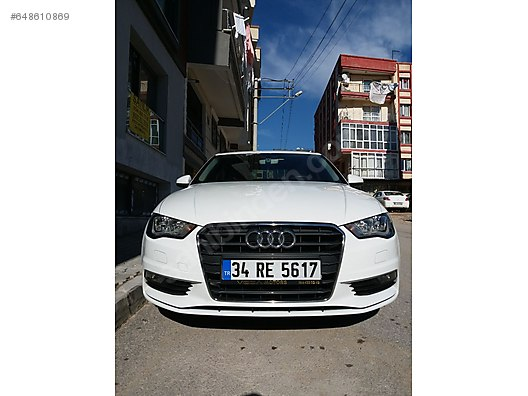audi: (240, 228, 299, 253)
